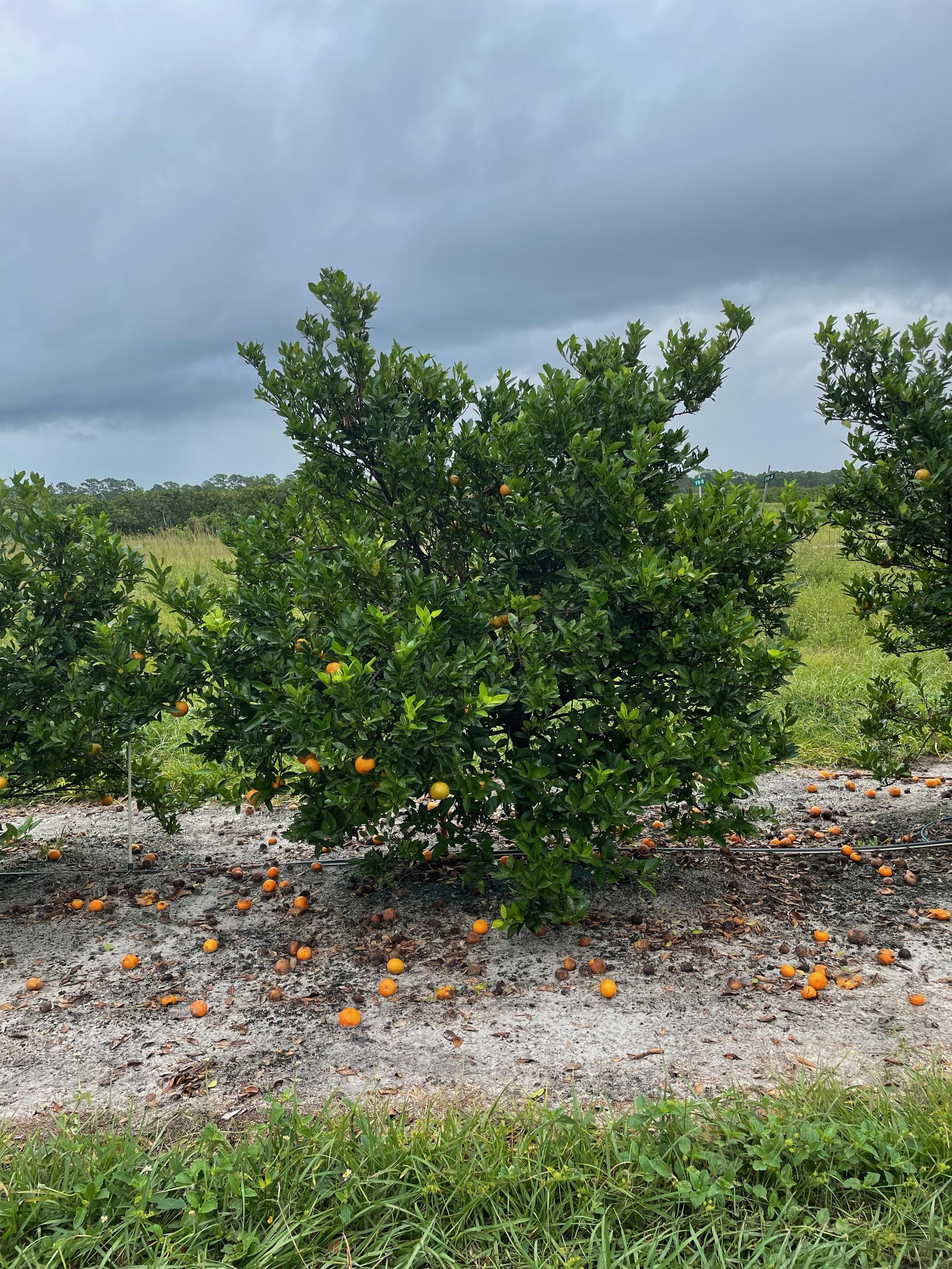fruit_on_ground: (354, 753, 378, 775), (428, 780, 451, 801), (297, 745, 318, 766), (170, 699, 189, 718), (324, 660, 344, 677), (245, 788, 263, 806), (84, 741, 103, 758), (269, 775, 287, 792), (304, 757, 322, 774), (913, 467, 932, 483), (499, 481, 515, 498), (131, 648, 147, 664), (294, 637, 310, 653), (496, 610, 513, 625), (488, 615, 504, 630), (99, 793, 114, 807), (878, 555, 893, 569), (0, 774, 11, 790), (860, 599, 873, 611), (448, 474, 461, 486)
fruit_on_tree: (336, 1006, 362, 1029), (377, 975, 398, 997), (597, 977, 618, 998), (188, 998, 209, 1018), (808, 972, 828, 991), (837, 972, 859, 989), (385, 956, 405, 974), (876, 947, 895, 965), (140, 888, 160, 905), (848, 926, 868, 943), (120, 952, 140, 969), (812, 963, 831, 980), (636, 836, 656, 852), (25, 974, 43, 991), (464, 929, 483, 945), (812, 926, 831, 942), (588, 956, 607, 972), (471, 918, 490, 934), (436, 984, 456, 999), (799, 984, 817, 1000), (295, 944, 313, 960), (902, 869, 919, 885), (267, 984, 284, 1000), (273, 958, 290, 974), (908, 991, 926, 1006), (201, 937, 219, 952), (287, 939, 303, 955), (382, 905, 398, 921), (293, 895, 310, 910), (929, 907, 948, 920), (533, 921, 549, 936), (779, 963, 796, 977), (159, 993, 177, 1006), (554, 967, 569, 982), (562, 955, 577, 970), (261, 878, 276, 893), (89, 897, 105, 911), (46, 847, 62, 861), (236, 897, 252, 911), (878, 863, 893, 877), (897, 947, 913, 960), (370, 833, 386, 846), (576, 935, 592, 948), (781, 826, 796, 839), (893, 858, 908, 871), (887, 784, 902, 797), (817, 769, 833, 781), (498, 852, 512, 865), (840, 842, 854, 855), (805, 781, 819, 794), (728, 978, 743, 990), (242, 804, 257, 816), (446, 851, 459, 864), (267, 865, 280, 878), (732, 914, 746, 926), (651, 818, 665, 830), (779, 835, 793, 847), (230, 865, 244, 877), (277, 878, 291, 890), (369, 911, 383, 923), (422, 848, 434, 861), (71, 897, 83, 910), (844, 780, 857, 792), (680, 801, 694, 812), (924, 778, 938, 789), (144, 851, 156, 863), (851, 851, 864, 862), (156, 899, 169, 910), (828, 824, 841, 835), (809, 805, 822, 816), (768, 837, 782, 847), (266, 834, 278, 845), (864, 788, 876, 799), (311, 860, 323, 871), (319, 844, 332, 854), (171, 876, 184, 886), (128, 841, 141, 851), (901, 832, 912, 842), (936, 774, 946, 783), (932, 778, 942, 786), (910, 775, 919, 783)
